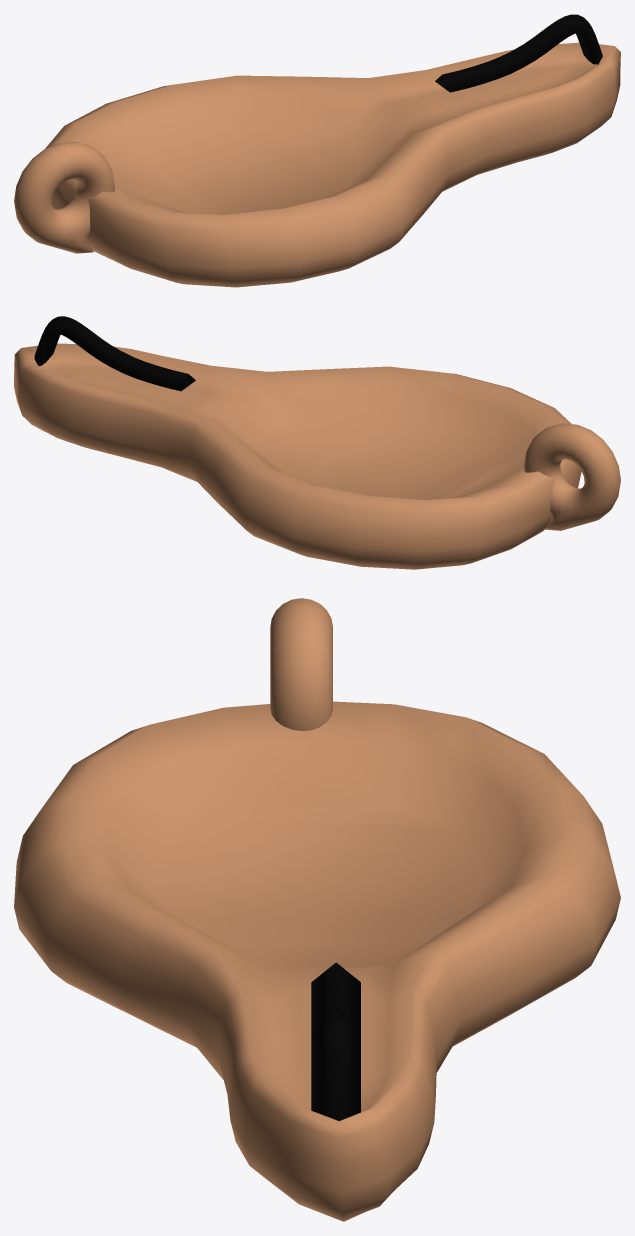
Rendered from firmalampe.obj.
3 renders of one model, top to bottom at view 1: azimuth 30°, elevation 25°; view 2: azimuth 150°, elevation 25°; view 3: azimuth 270°, elevation 25°, orthographic. The views are drawn at different scales.
Parts seen in each view (by area): view 1: Lamp, Wick; view 2: Lamp, Wick; view 3: Lamp, Wick.
Boxes of the visible parts, x1,y1,x2,y2 form: Lamp: (14,42,620,287); Wick: (435,14,602,92); Lamp: (14,343,620,569); Wick: (34,316,195,391); Lamp: (14,598,620,1221); Wick: (311,962,360,1120).
Size of the model in its own units: 1.39 by 0.26 by 0.742.
